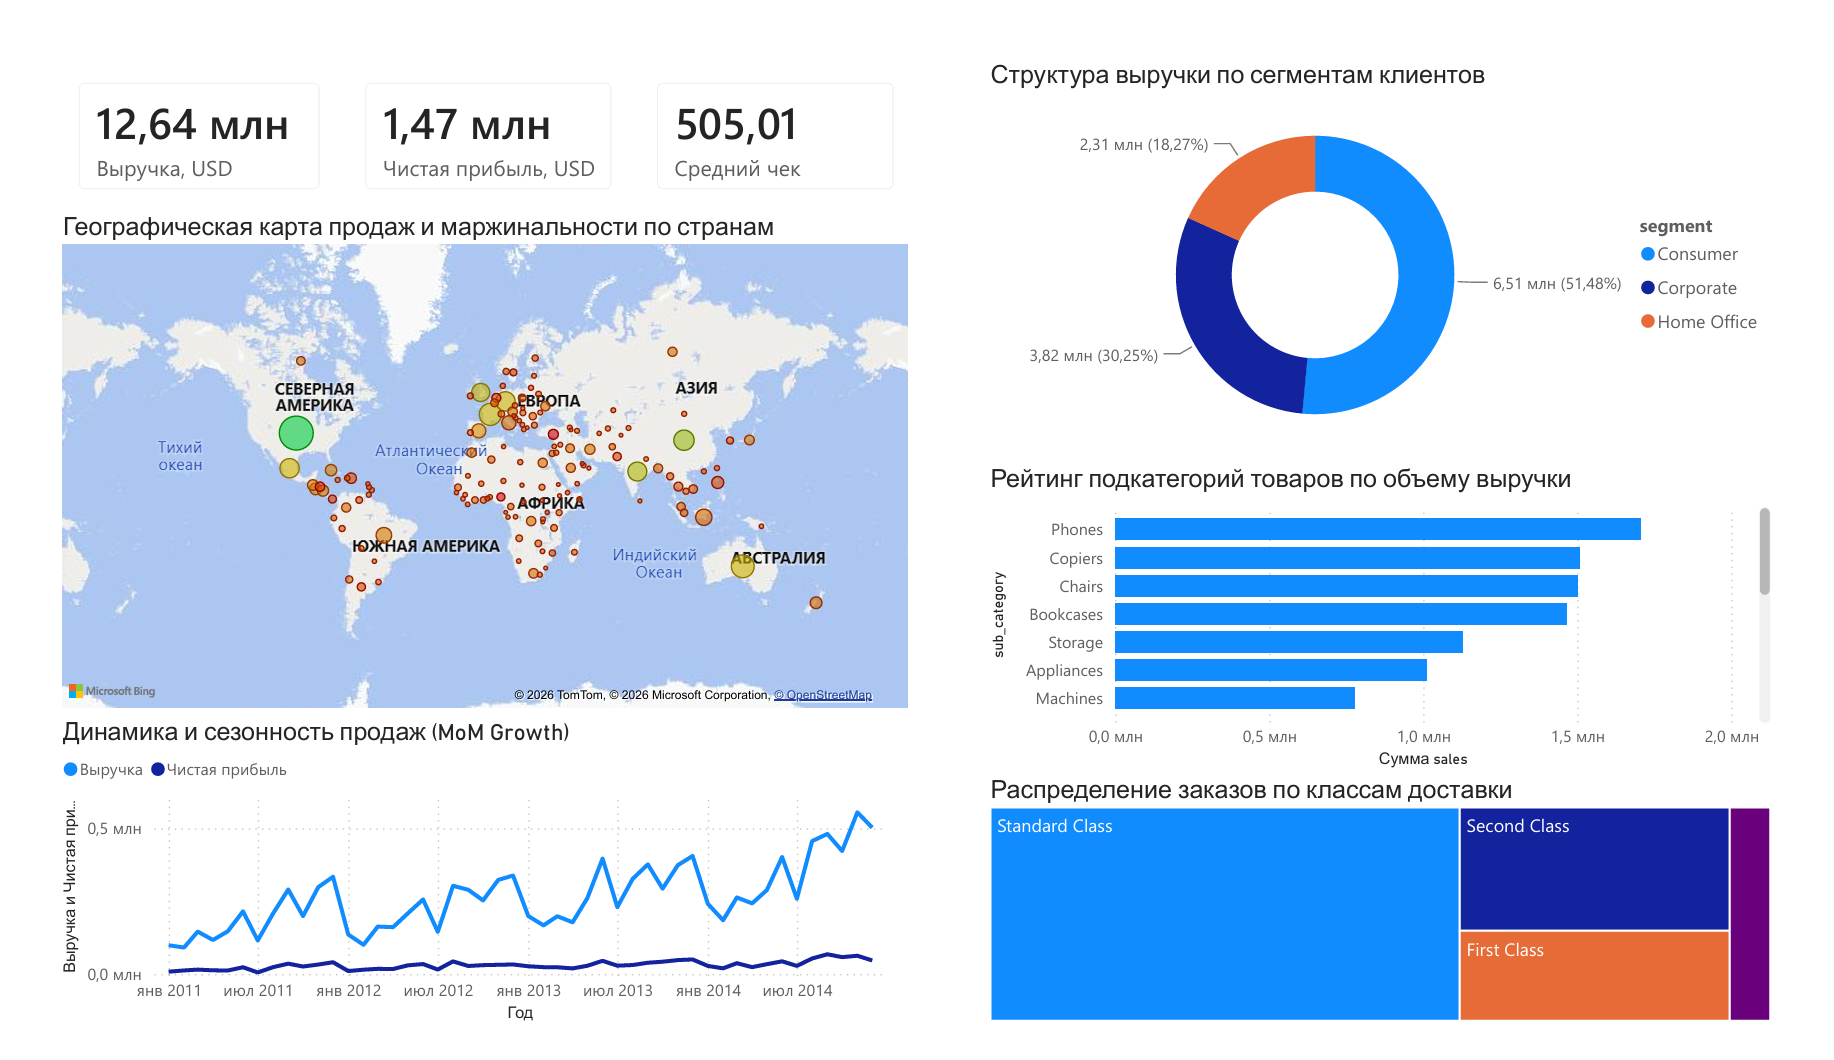

Layout of this report page (visuals, bound fields, positions):
{"tool":"powerbi","page":{"name":"Executive Dashboard","canvas":[1280,720],"ordinal":0},"visuals":[{"type":"map","fields":{"Category":["superstore_cleaned_complete.country"],"Size":["Sum(superstore_cleaned_complete.sales)"]},"box":[0,112.5,639.5,376],"z":0},{"type":"cardVisual","title":"Выручка, USD","fields":{"Data":["Sum(superstore_cleaned_complete.sales)"]},"box":[0,0,213,113],"z":1000},{"type":"cardVisual","fields":{"Data":["Sum(superstore_cleaned_complete.profit)"]},"box":[213,0,217.4,113],"z":2000},{"type":"lineChart","title":"Динамика и сезонность продаж (MoM Growth)","fields":{"Category":["superstore_cleaned_complete.order_date.Изменение.Иерархия дат.Год","superstore_cleaned_complete.order_date.Изменение.Иерархия дат.Квартал","superstore_cleaned_complete.order_date.Изменение.Иерархия дат.Месяц","superstore_cleaned_complete.order_date.Изменение.Иерархия дат.День"],"Y":["Sum(superstore_cleaned_complete.sales)","Sum(superstore_cleaned_complete.profit)"]},"box":[0,488.5,639.5,231.9],"z":3000},{"type":"donutChart","title":"Структура выручки по сегментам клиентов","fields":{"Category":["superstore_cleaned_complete.segment"],"Y":["Sum(superstore_cleaned_complete.sales)"]},"box":[690.2,0,590.1,300.5],"z":4000},{"type":"clusteredBarChart","title":"Рейтинг подкатегорий товаров по объему выручки","fields":{"Category":["superstore_cleaned_complete.sub_category"],"Y":["Sum(superstore_cleaned_complete.sales)"]},"box":[690.2,300.5,590.1,231.9],"z":5000},{"type":"treemap","title":"Распределение заказов по классам доставки","fields":{"Group":["superstore_cleaned_complete.ship_mode"],"Values":["Sum(superstore_cleaned_complete.quantity)"]},"box":[690.2,532.4,590.1,188],"z":6000},{"type":"cardVisual","fields":{"Data":["superstore_cleaned_complete.Средний чек"]},"box":[430.4,0,210.1,113],"z":7000}]}

Visuals, with their boxes in screenshot pixels (x1, y1, x2, y2), scaled from the page's 1280x720 canvas onto the 1834x1060 screenshot:
map - superstore_cleaned_complete.country x Sum(superstore_cleaned_complete.sales): (left=0, top=166, right=916, bottom=719)
"Выручка, USD" cardVisual: (left=0, top=0, right=305, bottom=166)
cardVisual - Sum(superstore_cleaned_complete.profit): (left=305, top=0, right=617, bottom=166)
"Динамика и сезонность продаж (MoM Growth)" lineChart: (left=0, top=719, right=916, bottom=1059)
"Структура выручки по сегментам клиентов" donutChart: (left=989, top=0, right=1833, bottom=442)
"Рейтинг подкатегорий товаров по объему выручки" clusteredBarChart: (left=989, top=442, right=1833, bottom=784)
"Распределение заказов по классам доставки" treemap: (left=989, top=784, right=1833, bottom=1059)
cardVisual - superstore_cleaned_complete.Средний чек: (left=617, top=0, right=918, bottom=166)
